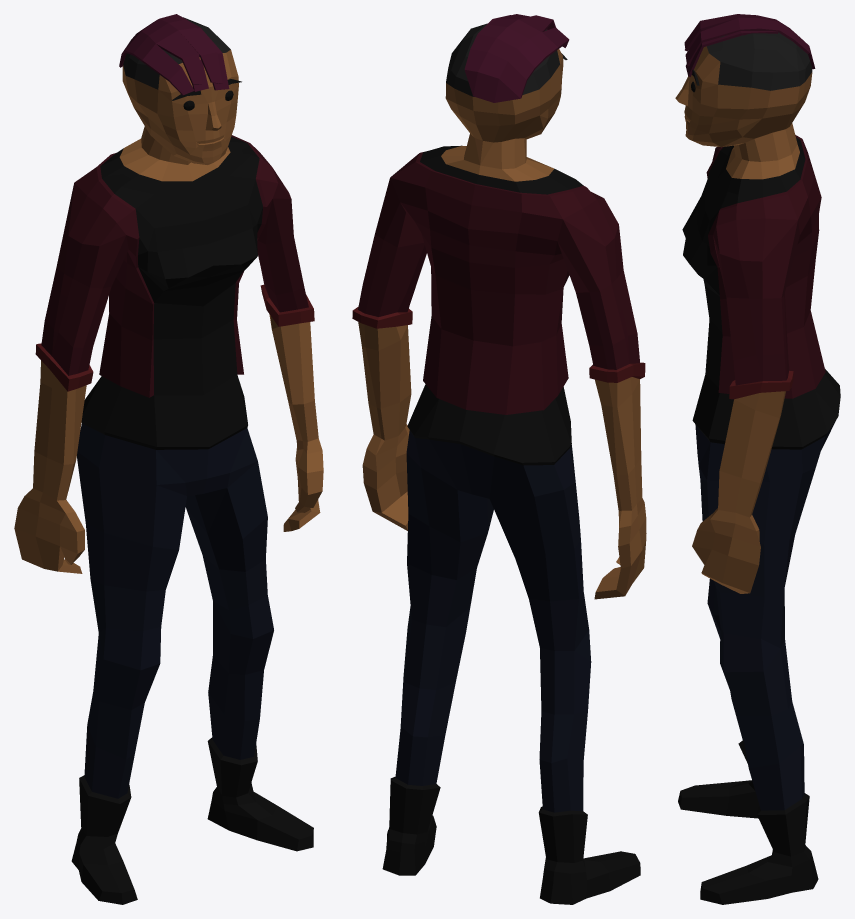
The picture shows the model from 3 angles, left to right: view 1: azimuth 30°, elevation 25°; view 2: azimuth 150°, elevation 25°; view 3: azimuth 270°, elevation 25°; orthographic projection. The views are drawn at different scales.
Parts seen in each view (by area): view 1: Female_static; view 2: Female_static; view 3: Female_static.
Boxes of the visible parts, bbox=[...] form: Female_static: bbox=[14, 14, 323, 904]; Female_static: bbox=[352, 14, 646, 904]; Female_static: bbox=[675, 14, 840, 904].
Size of the model in its own units: 1.62 by 4.63 by 0.8387.
